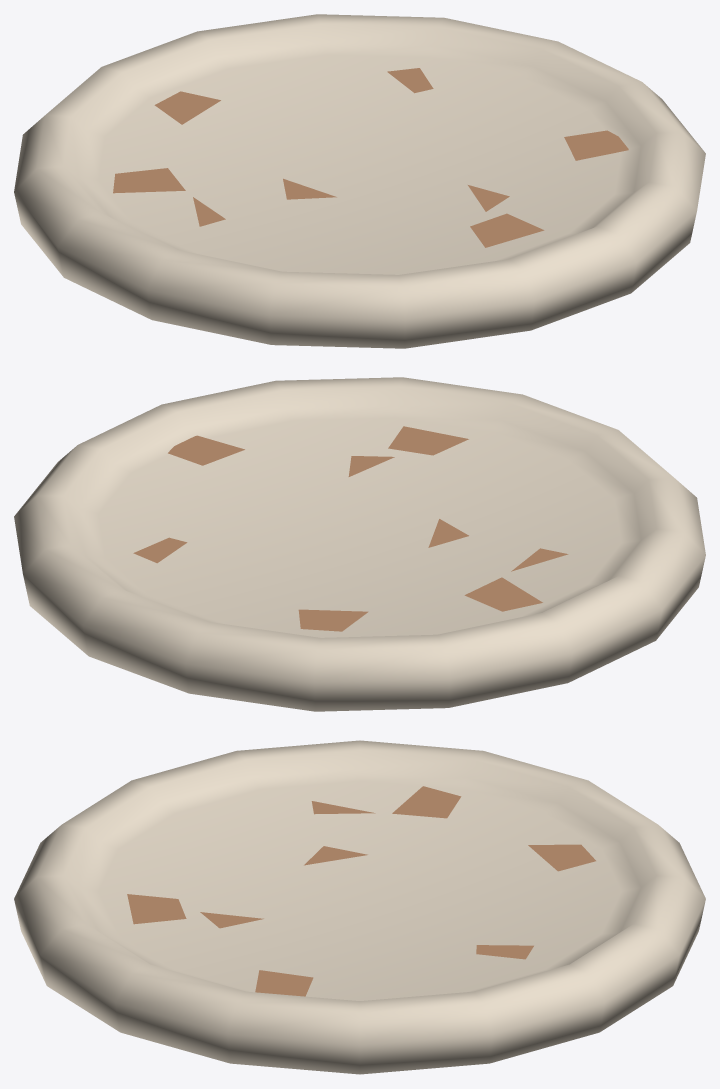
File: Wrap_geo.fbx
The picture shows the model from 3 angles, top to bottom: view 1: azimuth 30°, elevation 25°; view 2: azimuth 150°, elevation 25°; view 3: azimuth 270°, elevation 25°; orthographic projection.
Visible parts, largest first — view 1: Wrap_geo; view 2: Wrap_geo; view 3: Wrap_geo.
Part boxes in pixels (bbox=[...]): Wrap_geo: bbox=[14, 14, 705, 348]; Wrap_geo: bbox=[14, 377, 705, 711]; Wrap_geo: bbox=[14, 740, 705, 1074].
Bounding box in the file's own units: 0.8307 × 0.8307 × 0.0735.
